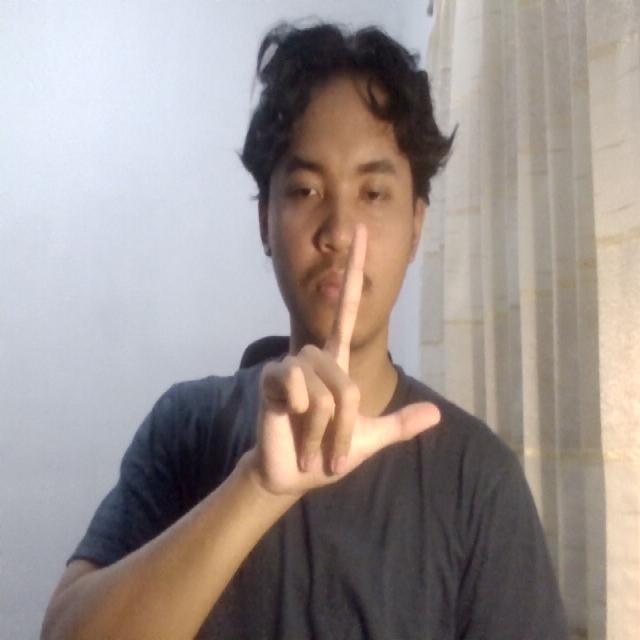I: (228, 217, 465, 528)
